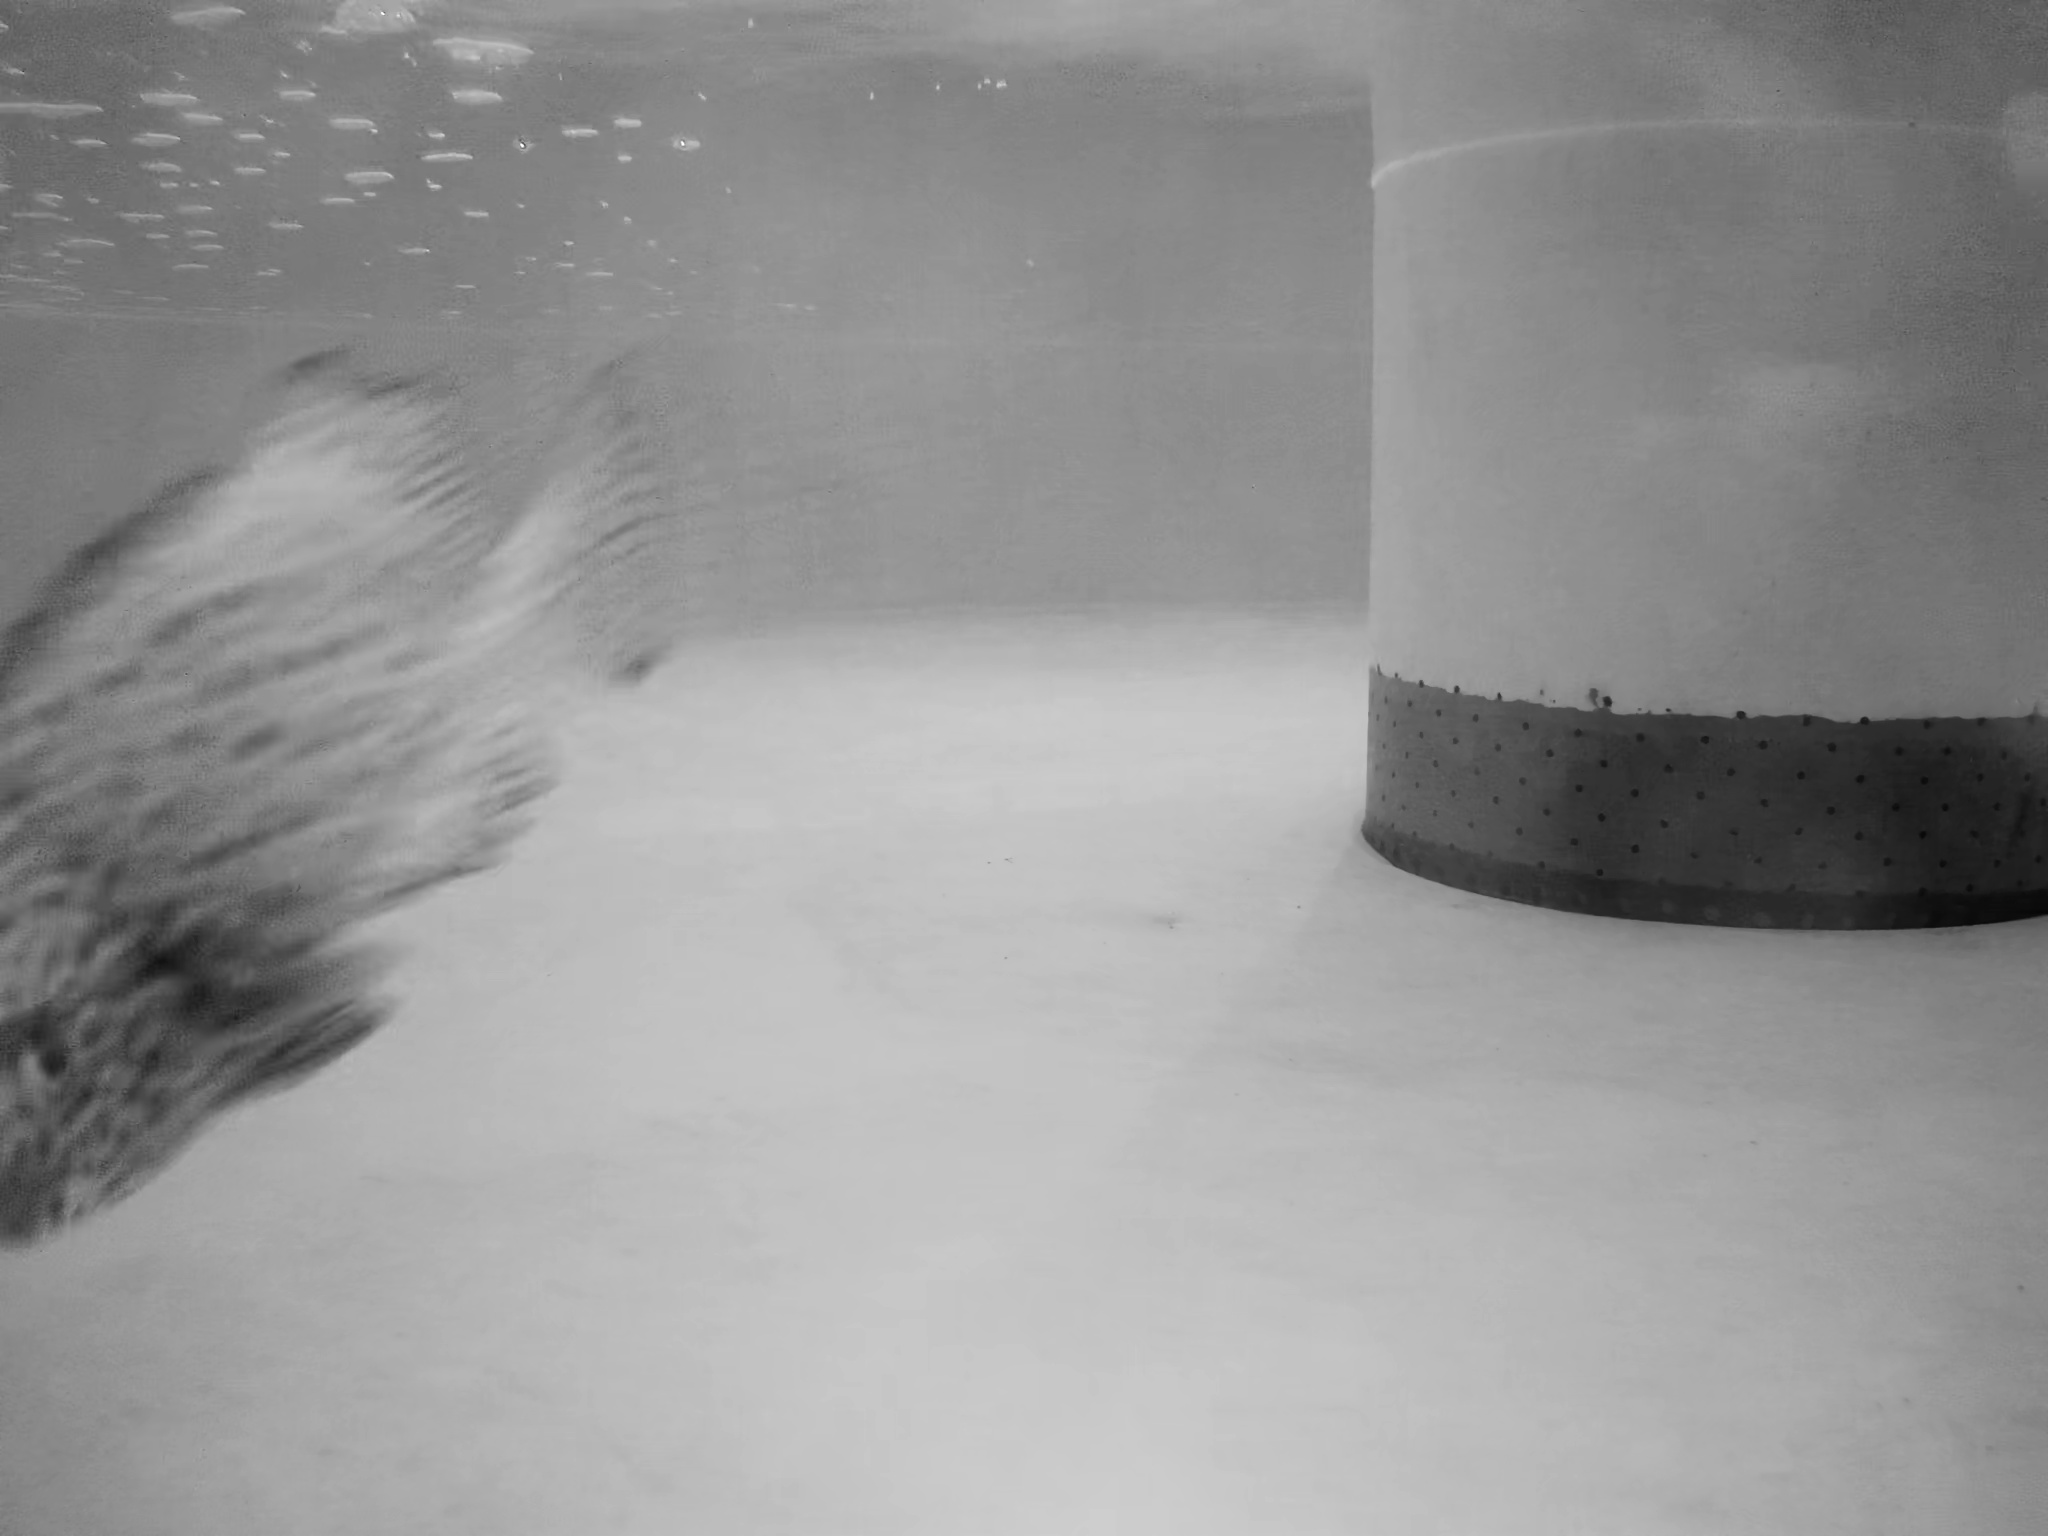fish: (2, 371, 701, 1250)
